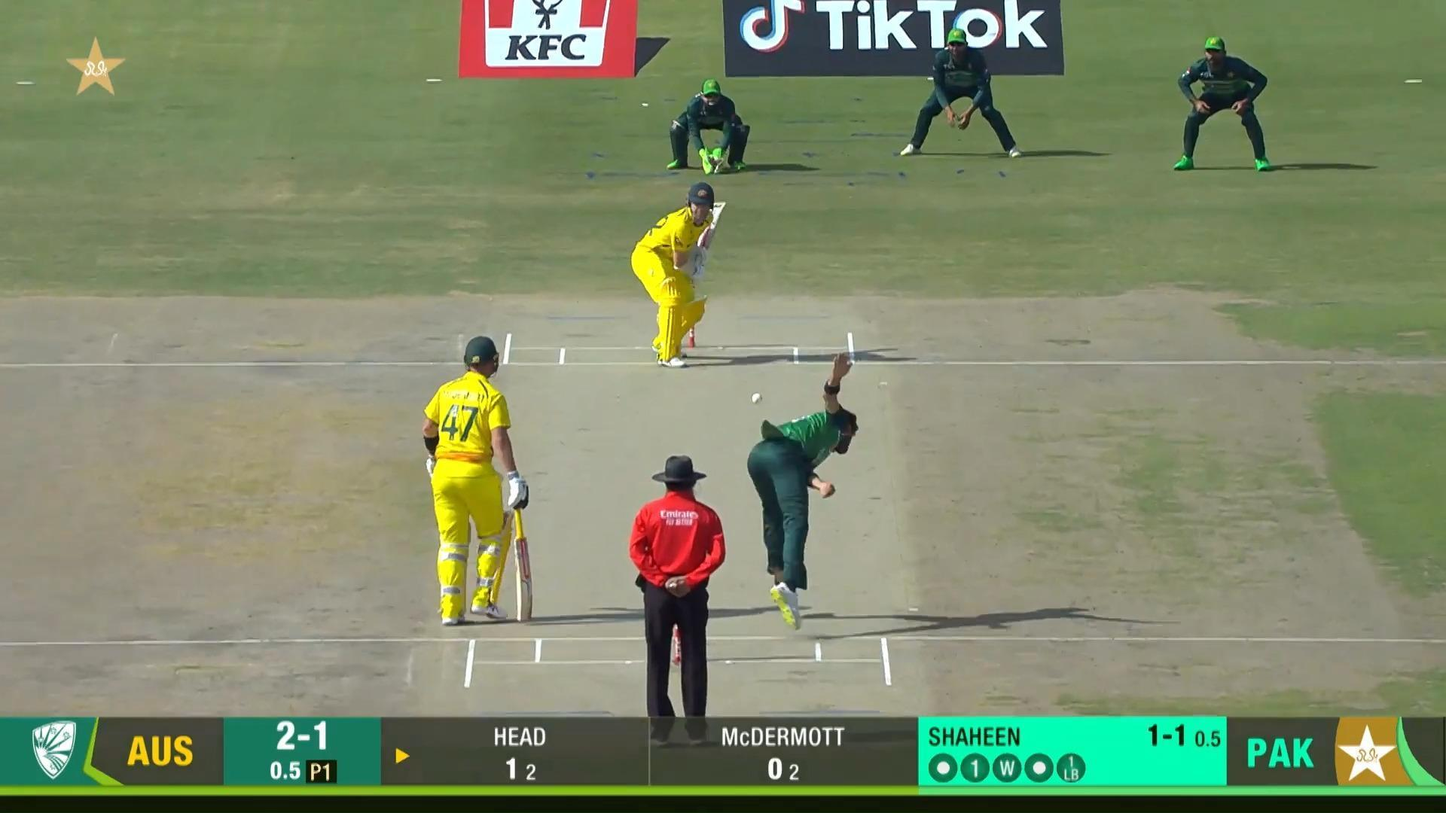BM 1: (631, 182, 727, 368)
BO: (743, 348, 863, 630)
